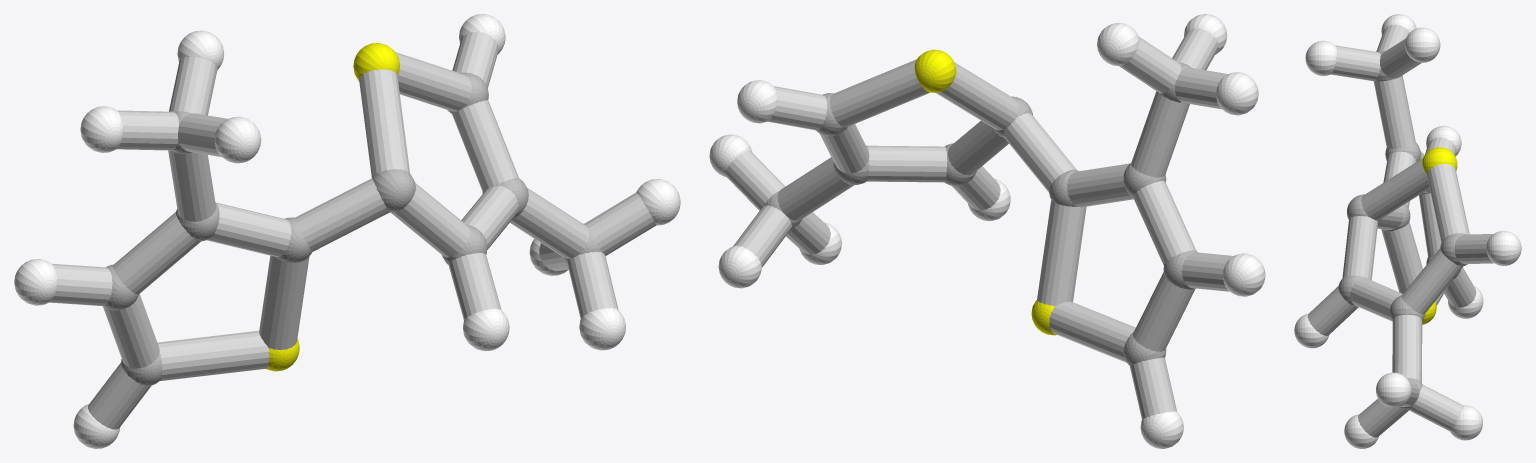
Rendered from Methylthiophene_Phi_60_Theta_320_Methylthiophene.glb.
The picture shows the model from 3 angles, left to right: view 1: azimuth 30°, elevation 25°; view 2: azimuth 150°, elevation 25°; view 3: azimuth 270°, elevation 25°; orthographic projection. The views are drawn at different scales.
Parts seen in each view (by area): view 1: grp7965, grp3621, grp1, grp7241; view 2: grp7965, grp3621, grp1, grp7241; view 3: grp7965, grp3621, grp1, grp7241.
Boxes of the visible parts, box(x1,y1,x2,y2) form: grp7965: box(49, 31, 656, 429); grp3621: box(14, 14, 680, 448); grp1: box(103, 72, 601, 385); grp7241: box(266, 43, 399, 371); grp7965: box(725, 28, 1232, 419); grp3621: box(709, 14, 1265, 448); grp1: box(764, 62, 1197, 365); grp7241: box(914, 49, 1056, 335); grp7965: box(1307, 24, 1493, 437); grp3621: box(1294, 14, 1521, 448); grp1: box(1338, 50, 1467, 410); grp7241: box(1422, 147, 1457, 324).
Size of the model in its own units: 9.28 by 5.89 by 3.84.
